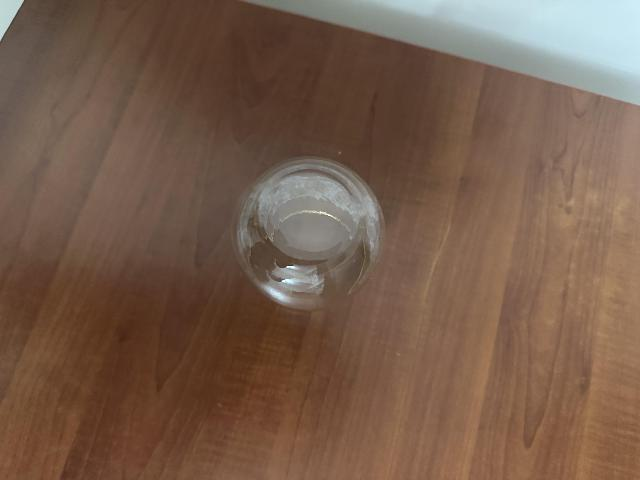Cam: (230, 158, 387, 317)
